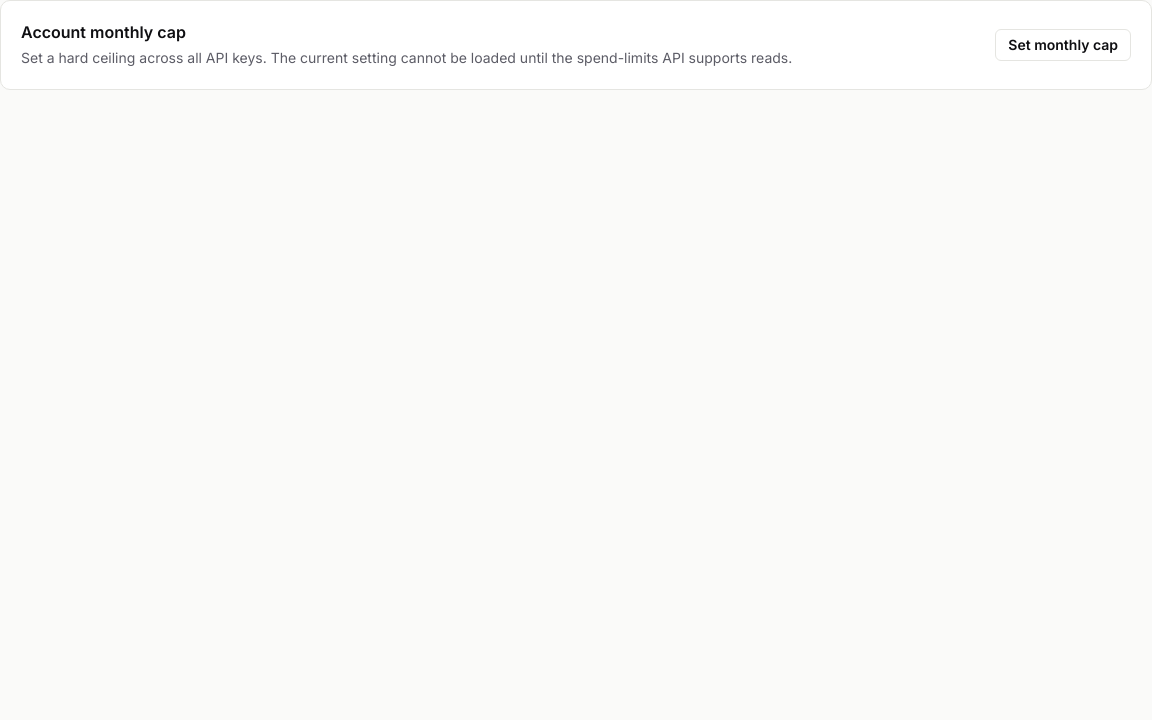
Test: AccountSpendLimit › retains the saved account cap across route-style unmounts
Later steps or results of the test are not shown.
Click the button "Set monthly cap".
click(1063, 45)  # box left=995, top=29, right=1131, bottom=61
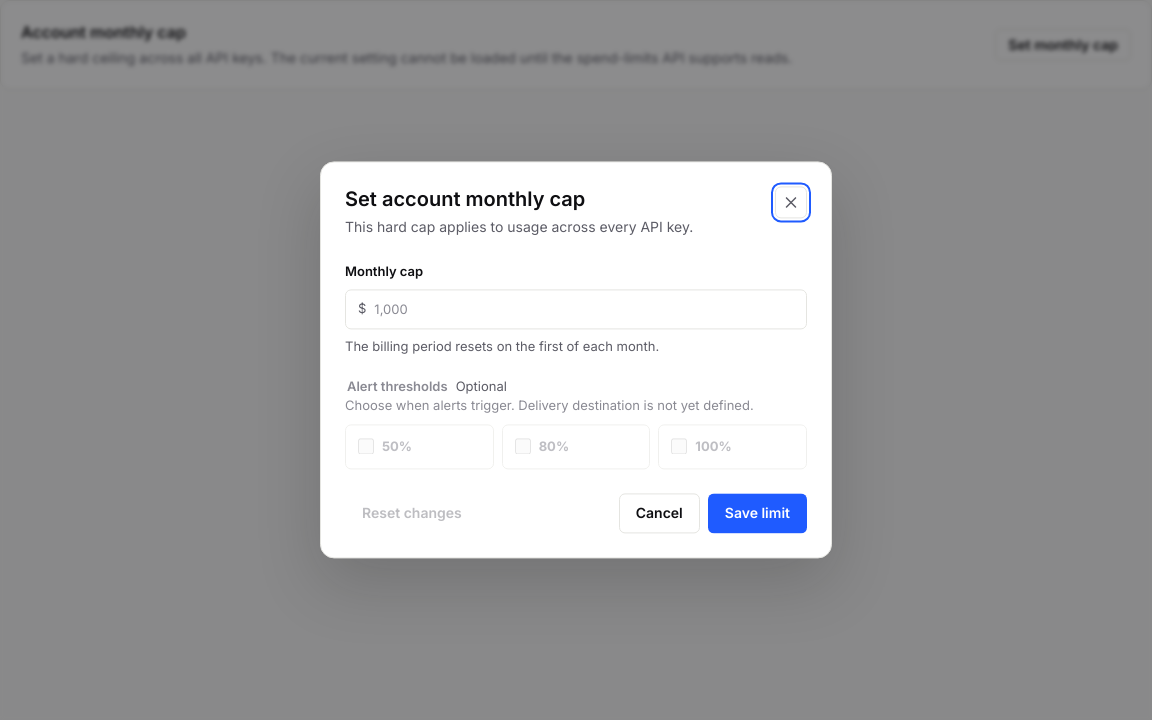
Type "1000" into the field labelled "Monthly cap".
click(586, 310); type("1000")  # box left=366, top=291, right=806, bottom=329
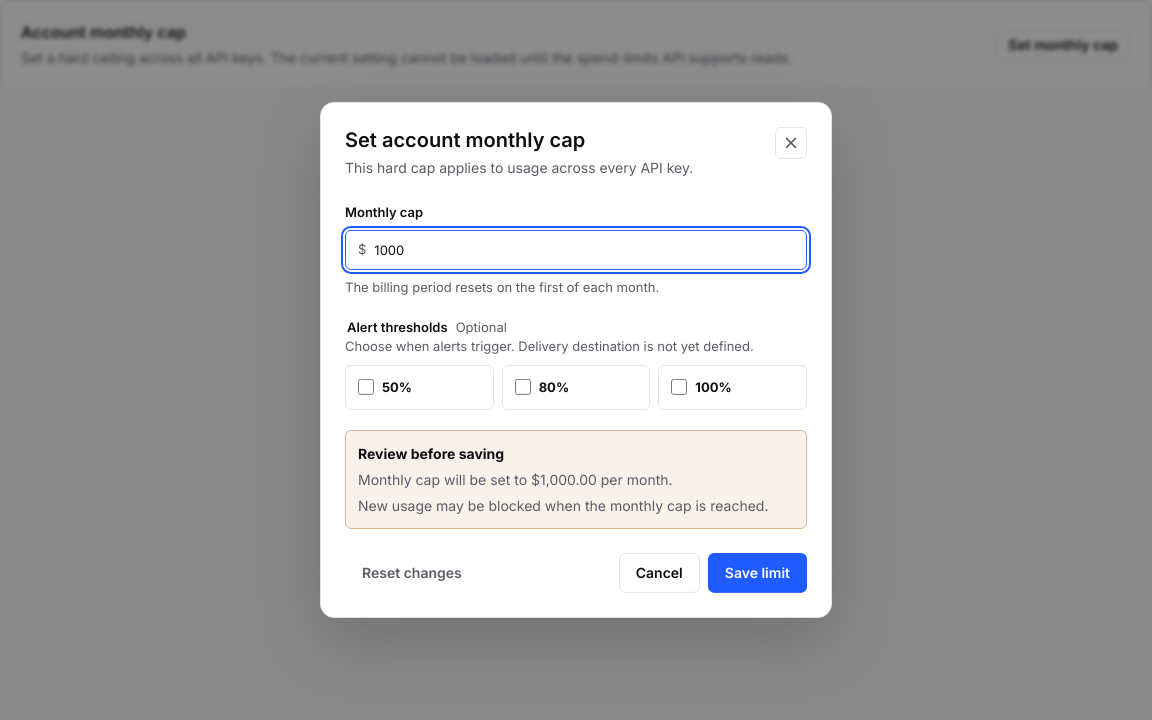
Click the button "Save limit".
click(757, 573)  # box left=708, top=553, right=807, bottom=593
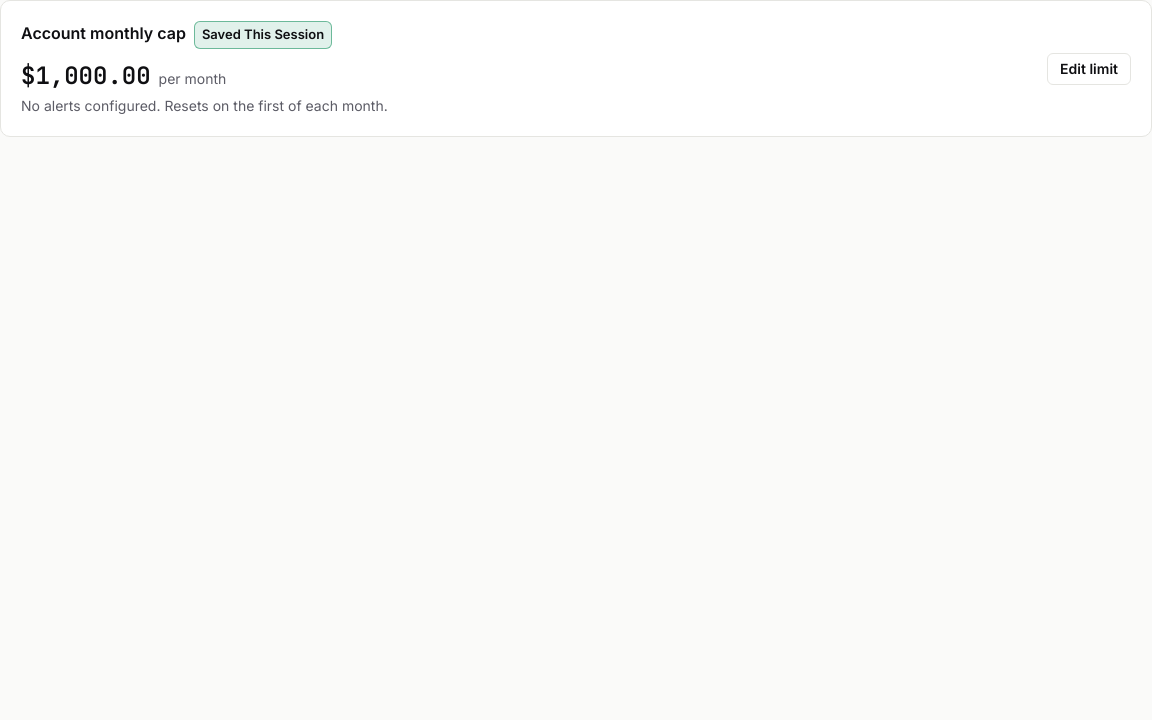
Expected: the text "$1,000.00" is shown, left=21, top=60, right=151, bottom=90
Expected: the text "Saved this session" is shown, left=194, top=21, right=332, bottom=48
Expected: the text "No alerts configured. Resets on the first of each month." is shown, left=21, top=94, right=388, bottom=116
